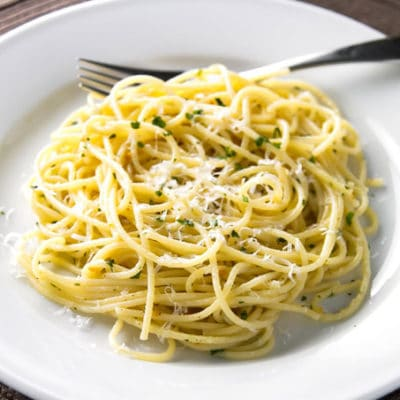plain spaghetti: (84, 115, 326, 302)
